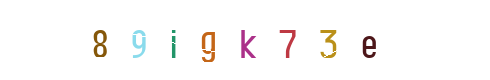3: (230, 0, 310, 80)
7: (212, 0, 292, 80)
8: (63, 0, 143, 80)
9: (103, 0, 183, 80)
E: (328, 0, 408, 80)
G: (205, 0, 285, 80)
I: (133, 0, 213, 80)
K: (207, 0, 287, 80)
